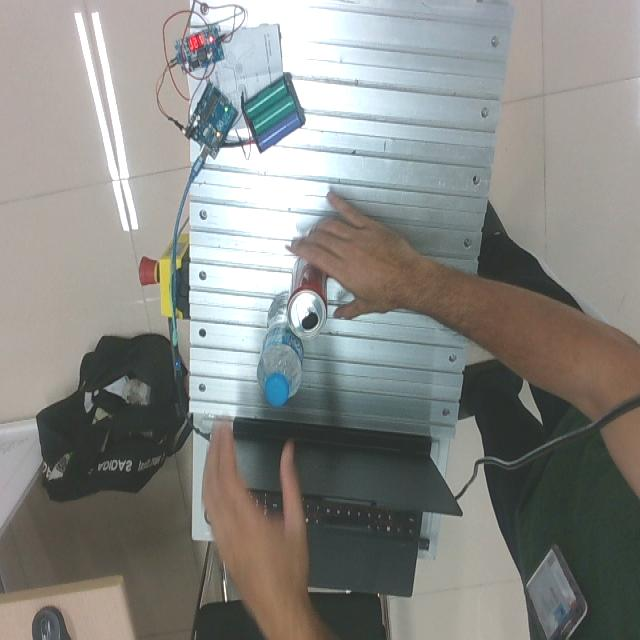coca: (287, 257, 328, 340)
lavie: (257, 293, 305, 407)
